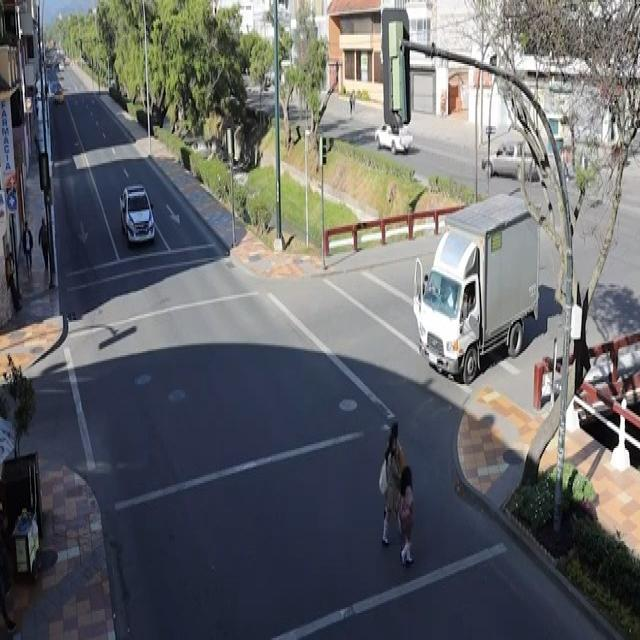CMT: (118, 185, 157, 246)
TRUCK: (417, 194, 554, 386)
